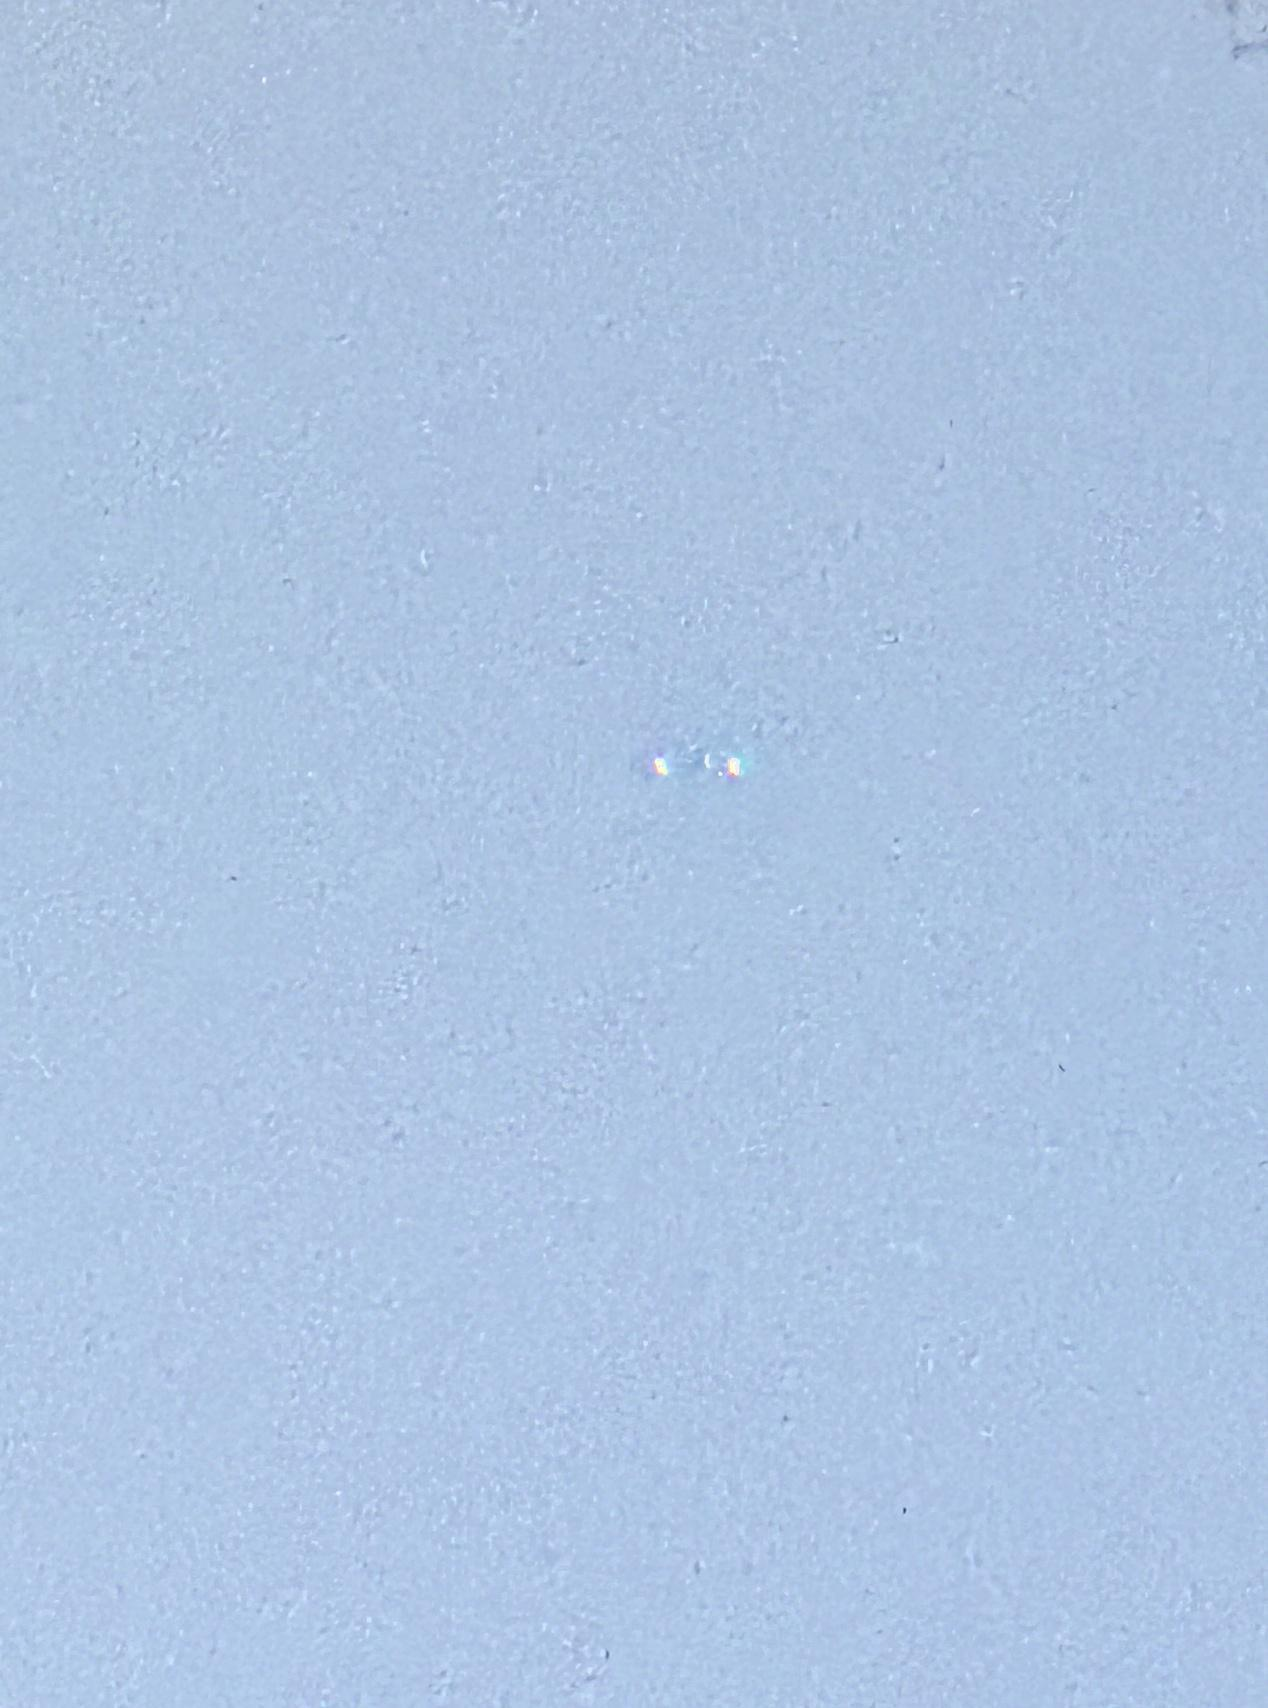Plane: (558, 715, 798, 807)
